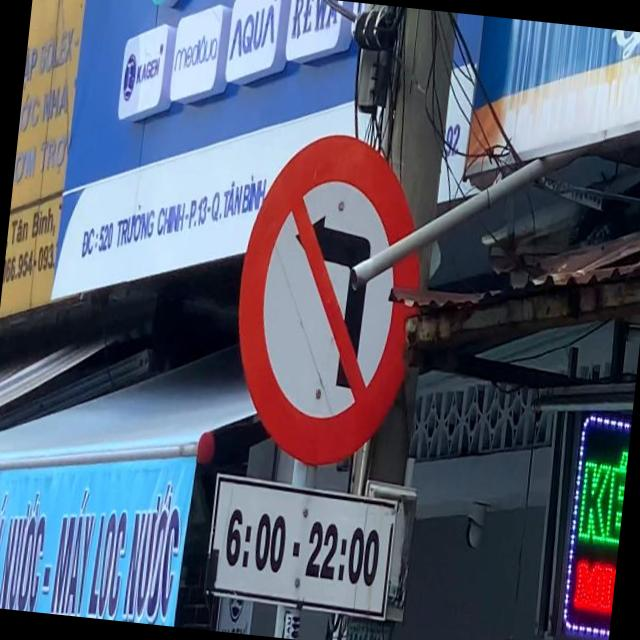P-123a: (224, 125, 434, 474)
